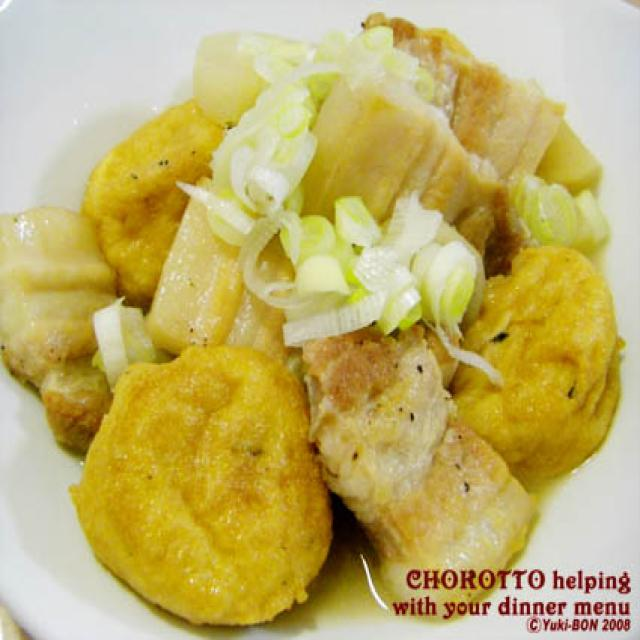熟制海鲜: (26, 43, 626, 556)
